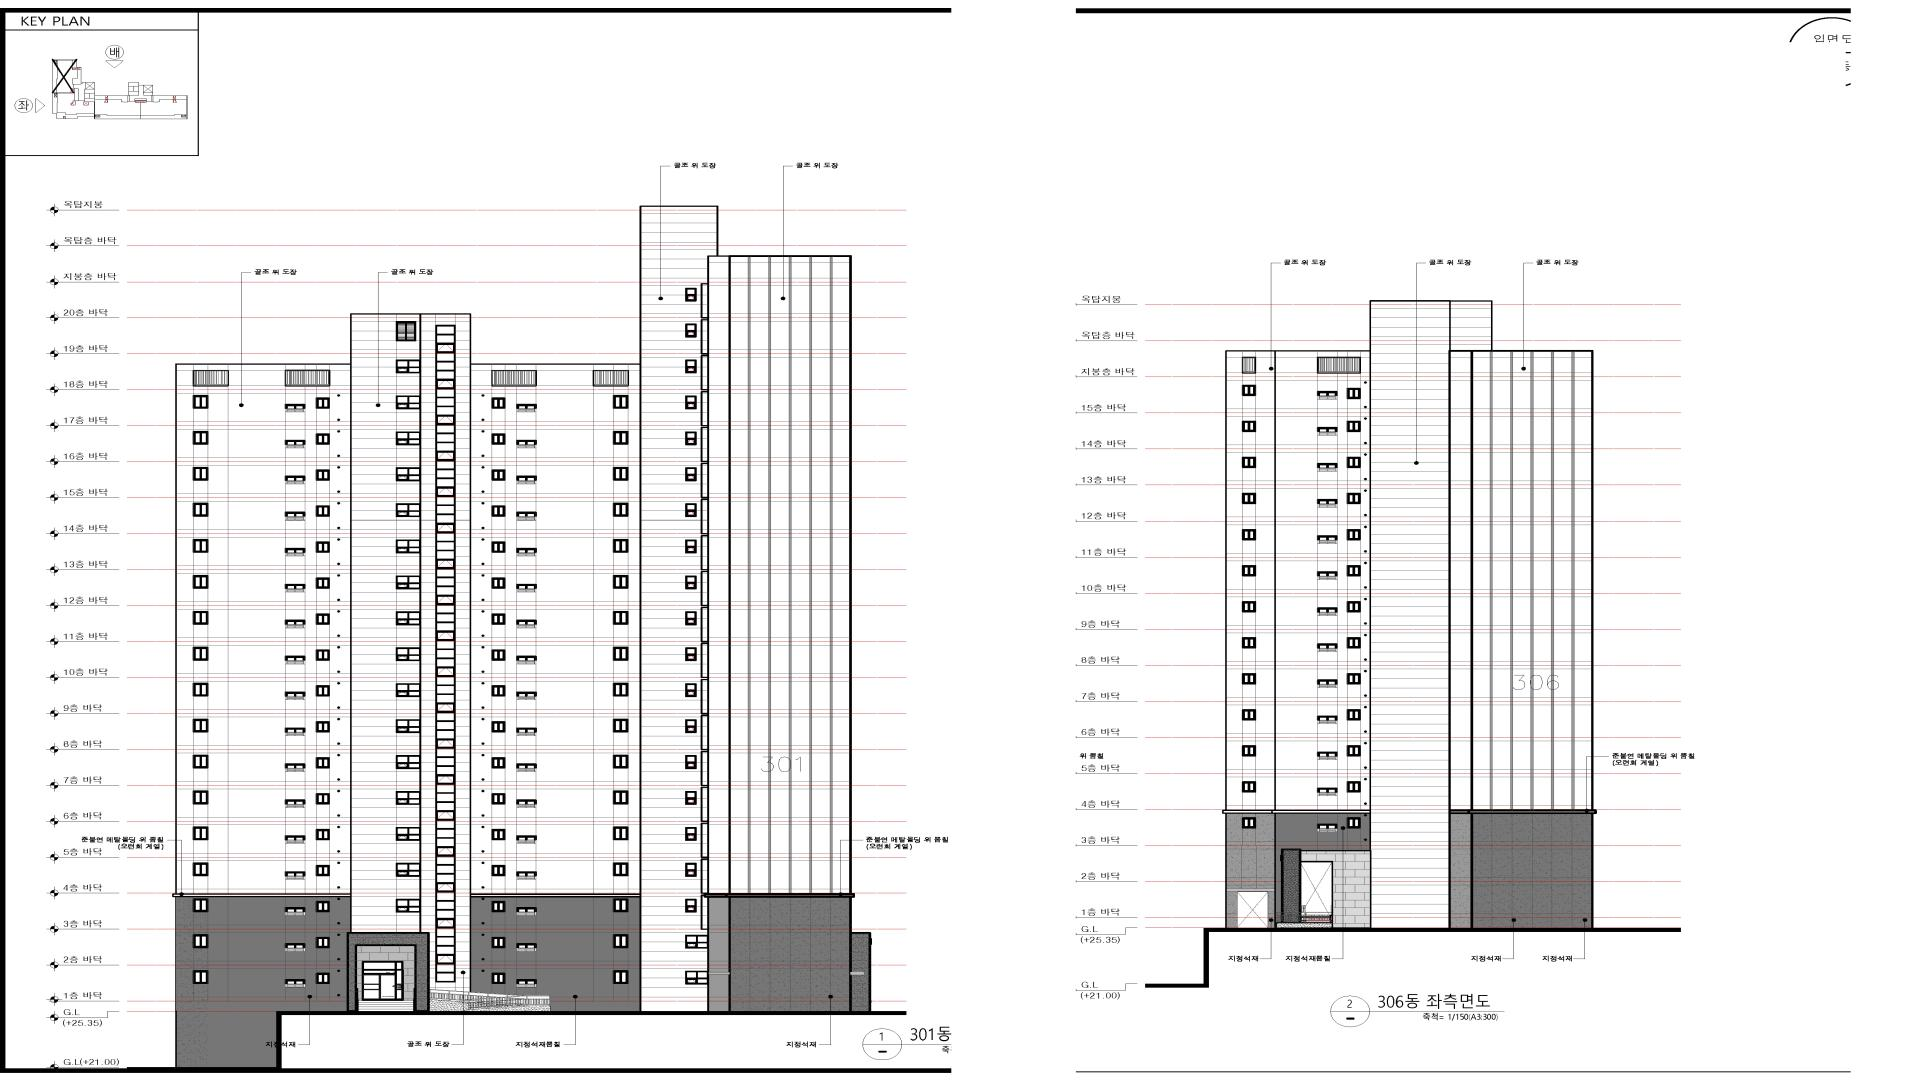door: (1300, 861, 1333, 918), (361, 961, 404, 1001), (1237, 891, 1269, 928)
wall: (175, 206, 873, 1073), (1226, 301, 1593, 932)
window: (435, 927, 456, 982), (435, 423, 456, 460), (285, 369, 330, 386), (435, 388, 456, 423), (435, 460, 456, 496), (435, 568, 456, 604), (435, 604, 456, 640), (435, 640, 456, 675), (435, 712, 456, 748), (435, 748, 456, 783), (435, 783, 456, 819), (435, 675, 455, 712), (435, 819, 455, 856), (492, 371, 537, 386), (435, 352, 455, 388), (435, 496, 455, 531), (435, 533, 455, 568), (435, 856, 455, 891), (435, 891, 455, 927), (1317, 357, 1361, 373), (435, 324, 456, 352), (193, 371, 229, 386), (592, 371, 629, 386), (396, 322, 417, 342), (396, 683, 422, 698), (396, 467, 421, 481), (396, 431, 421, 446), (396, 862, 421, 877), (396, 827, 421, 841), (396, 647, 422, 661), (396, 612, 422, 625), (396, 576, 422, 589), (396, 504, 422, 517), (396, 360, 422, 373), (686, 971, 709, 985), (396, 720, 421, 733), (396, 539, 421, 553), (396, 396, 421, 409), (396, 899, 421, 913), (396, 791, 421, 804), (396, 756, 421, 769), (686, 935, 709, 948), (193, 898, 208, 913), (193, 862, 208, 877), (193, 754, 208, 769), (193, 646, 208, 661), (193, 611, 208, 625), (193, 502, 208, 517), (193, 467, 208, 481), (193, 394, 208, 409), (613, 898, 629, 913), (613, 862, 629, 877), (613, 754, 629, 769), (613, 611, 629, 625), (613, 575, 629, 589), (613, 502, 629, 517), (613, 467, 629, 481), (613, 394, 629, 409), (193, 971, 208, 984), (193, 935, 208, 948), (193, 827, 208, 840), (193, 791, 208, 804), (193, 719, 208, 732), (193, 683, 208, 696), (193, 575, 208, 588), (193, 539, 208, 553), (193, 431, 208, 444), (613, 971, 629, 984), (613, 935, 629, 948), (613, 827, 629, 840), (613, 791, 629, 804), (613, 719, 629, 732), (613, 683, 629, 696), (613, 647, 629, 661), (613, 539, 629, 553), (613, 431, 629, 444), (1242, 357, 1255, 373), (285, 978, 306, 988), (285, 943, 306, 952), (285, 799, 306, 808), (285, 691, 306, 700), (285, 655, 306, 665), (285, 547, 306, 556), (285, 512, 306, 521), (285, 404, 306, 413), (516, 978, 537, 988), (516, 943, 537, 952), (516, 835, 537, 844), (516, 799, 537, 808), (516, 691, 537, 700), (516, 655, 537, 665), (516, 547, 537, 556), (516, 512, 537, 521), (516, 439, 537, 448), (516, 404, 537, 413), (1316, 498, 1337, 508), (1317, 463, 1337, 472), (1317, 571, 1337, 580), (1317, 679, 1337, 688), (1317, 787, 1337, 796), (684, 431, 696, 446), (315, 828, 330, 840), (315, 793, 330, 804), (315, 757, 330, 769), (315, 721, 330, 733), (315, 649, 330, 661), (315, 613, 330, 625), (315, 578, 330, 589), (315, 505, 330, 517), (315, 469, 330, 481), (315, 397, 330, 409), (492, 793, 506, 804), (492, 757, 506, 769), (492, 649, 506, 661), (492, 613, 506, 625), (492, 541, 506, 553), (492, 505, 506, 517), (492, 469, 506, 481), (684, 467, 696, 481), (684, 898, 696, 913), (315, 936, 330, 948), (315, 901, 330, 913), (1242, 781, 1257, 793), (1242, 745, 1257, 757), (1346, 781, 1361, 793), (1346, 745, 1361, 757), (1346, 637, 1361, 649), (1346, 601, 1361, 613), (1346, 529, 1361, 541), (1346, 456, 1361, 468), (1346, 421, 1361, 433), (1346, 388, 1361, 400), (285, 907, 306, 915), (285, 872, 306, 880), (285, 836, 306, 844), (285, 764, 306, 771), (285, 728, 306, 736), (285, 620, 306, 628), (285, 584, 306, 592), (285, 476, 306, 484), (285, 440, 306, 448), (516, 907, 537, 915), (516, 872, 537, 880), (516, 764, 537, 771), (516, 728, 537, 736), (516, 620, 537, 628), (516, 584, 537, 592), (516, 476, 537, 484), (1317, 752, 1338, 760), (1317, 824, 1338, 832), (492, 936, 505, 948), (492, 901, 505, 913), (492, 865, 505, 877), (492, 397, 505, 409), (684, 647, 696, 661), (1242, 673, 1255, 684), (1242, 637, 1255, 649), (1242, 564, 1255, 576), (1242, 529, 1255, 541), (1242, 456, 1255, 468), (1242, 421, 1255, 433), (1317, 392, 1337, 400), (1317, 427, 1337, 435), (1317, 535, 1337, 543), (1317, 608, 1337, 616), (1317, 644, 1337, 651), (1317, 716, 1337, 724), (686, 287, 696, 302), (686, 323, 696, 338), (686, 359, 696, 373), (315, 686, 330, 696), (315, 542, 330, 553), (315, 434, 330, 444), (492, 973, 506, 984), (491, 829, 505, 840), (492, 721, 506, 732), (492, 686, 506, 696), (492, 578, 506, 588), (492, 434, 506, 444), (686, 539, 696, 554), (686, 575, 696, 589), (686, 683, 696, 698), (686, 719, 696, 733), (686, 827, 696, 841), (686, 862, 696, 877), (315, 973, 330, 984), (315, 865, 330, 876), (1346, 818, 1361, 828), (1346, 709, 1361, 720), (1346, 674, 1361, 684), (1346, 566, 1361, 576), (1346, 493, 1361, 504), (686, 396, 696, 409), (686, 504, 696, 517), (686, 612, 696, 625), (686, 756, 696, 769), (686, 791, 696, 804), (1242, 818, 1255, 828), (1242, 709, 1255, 720), (1242, 601, 1255, 612), (1242, 493, 1255, 504), (1242, 385, 1255, 396)
